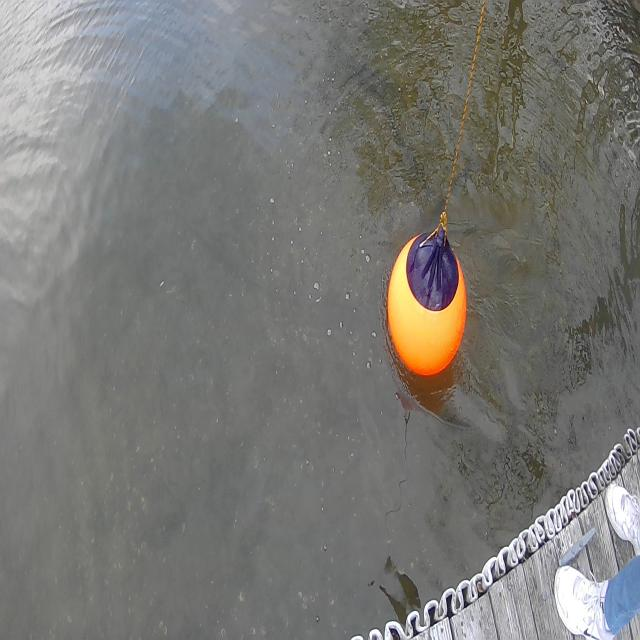Buoy: (378, 214, 475, 388)
